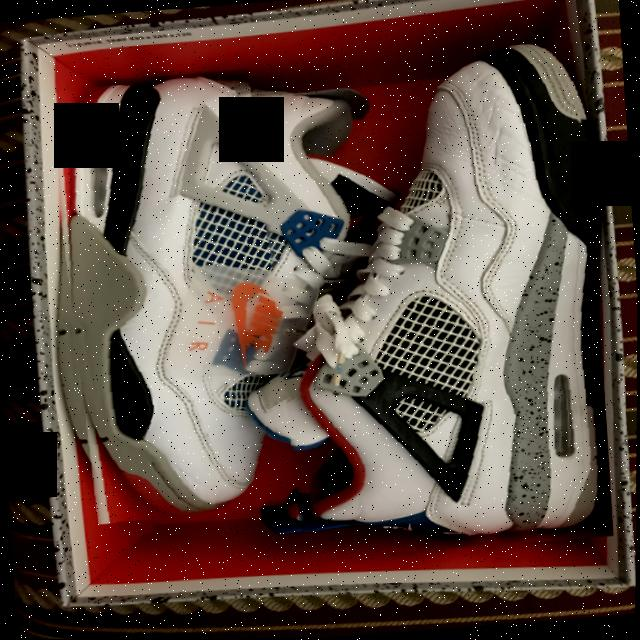shoe: (243, 31, 617, 562), (42, 63, 355, 526)
